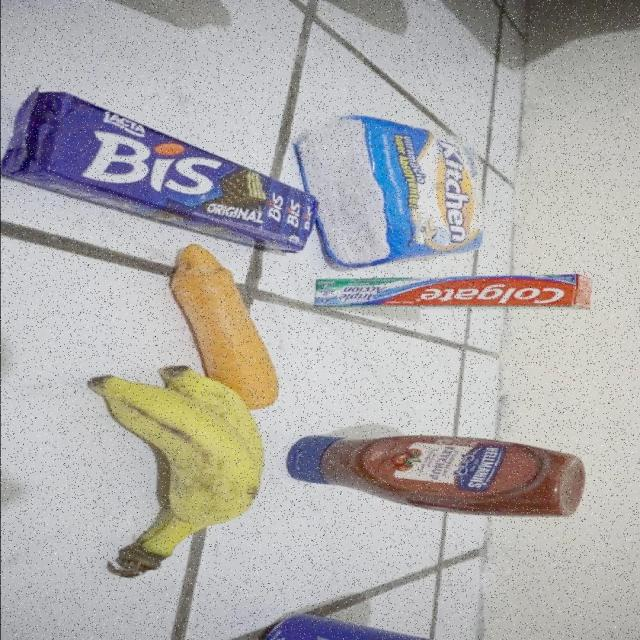Banana: (89, 366, 263, 578)
Carrot: (168, 248, 277, 412)
Ketchup: (284, 435, 584, 518)
Napkin: (292, 114, 480, 268)
SodaCan: (258, 614, 470, 640)
Toothpaste: (316, 274, 592, 310)
